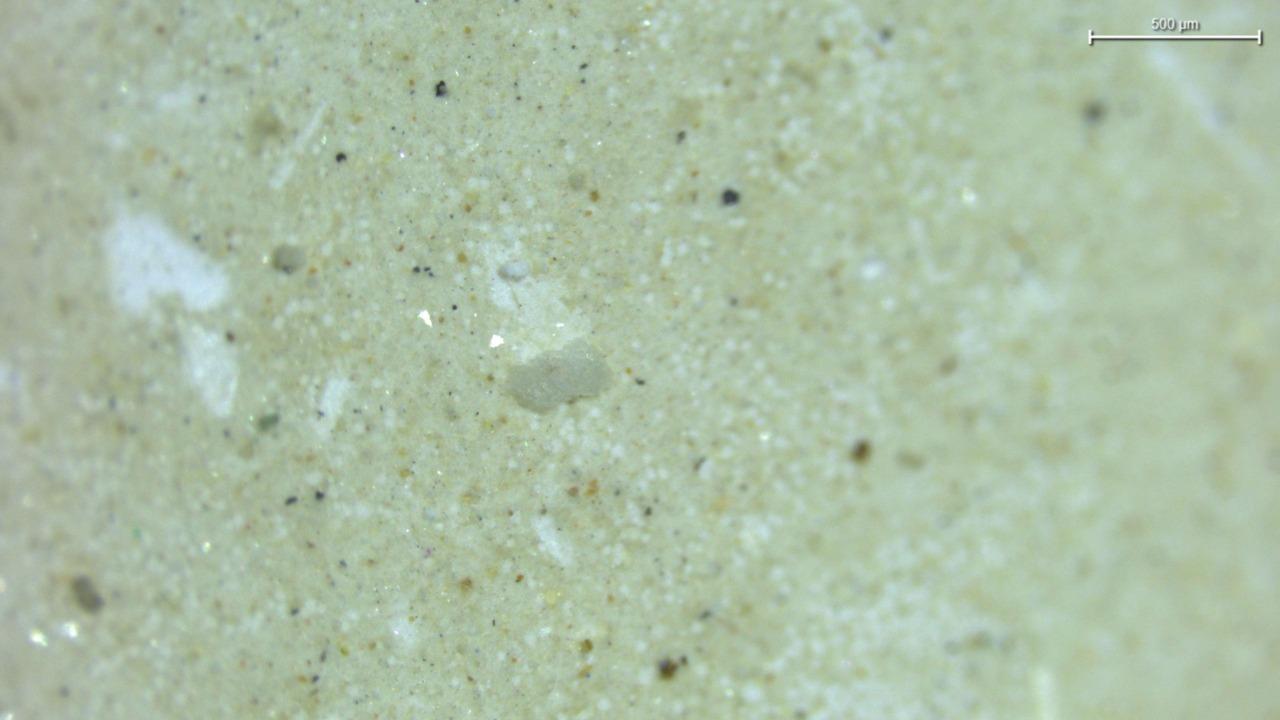microplastic_fragment: (507, 338, 612, 412), (497, 260, 528, 281)
